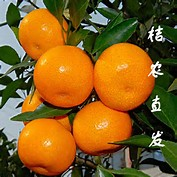orange: (89, 40, 157, 109), (14, 113, 78, 175), (32, 43, 93, 107), (73, 103, 134, 156), (14, 8, 71, 59), (19, 86, 43, 122)
